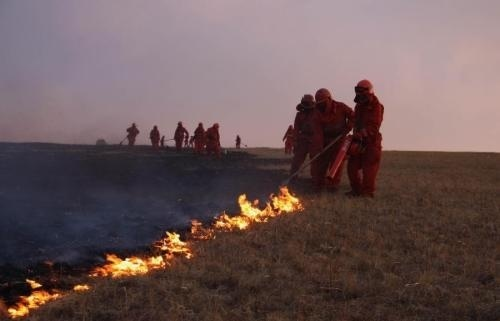fire: (198, 185, 305, 226)
